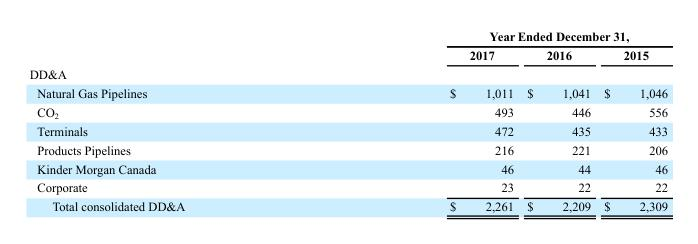table: (28, 28, 667, 213)
table column: (28, 28, 316, 213), (316, 28, 519, 213), (519, 28, 596, 213), (596, 28, 667, 213)
table column header: (28, 28, 667, 64)
table projected row header: (28, 64, 667, 83)
table row: (28, 101, 667, 121), (28, 45, 667, 64), (28, 64, 667, 83), (28, 139, 667, 158), (28, 158, 667, 177), (28, 177, 667, 196), (28, 83, 667, 101), (28, 121, 667, 139), (28, 28, 667, 45), (28, 196, 667, 213)
table spanning cell: (316, 28, 667, 45)
